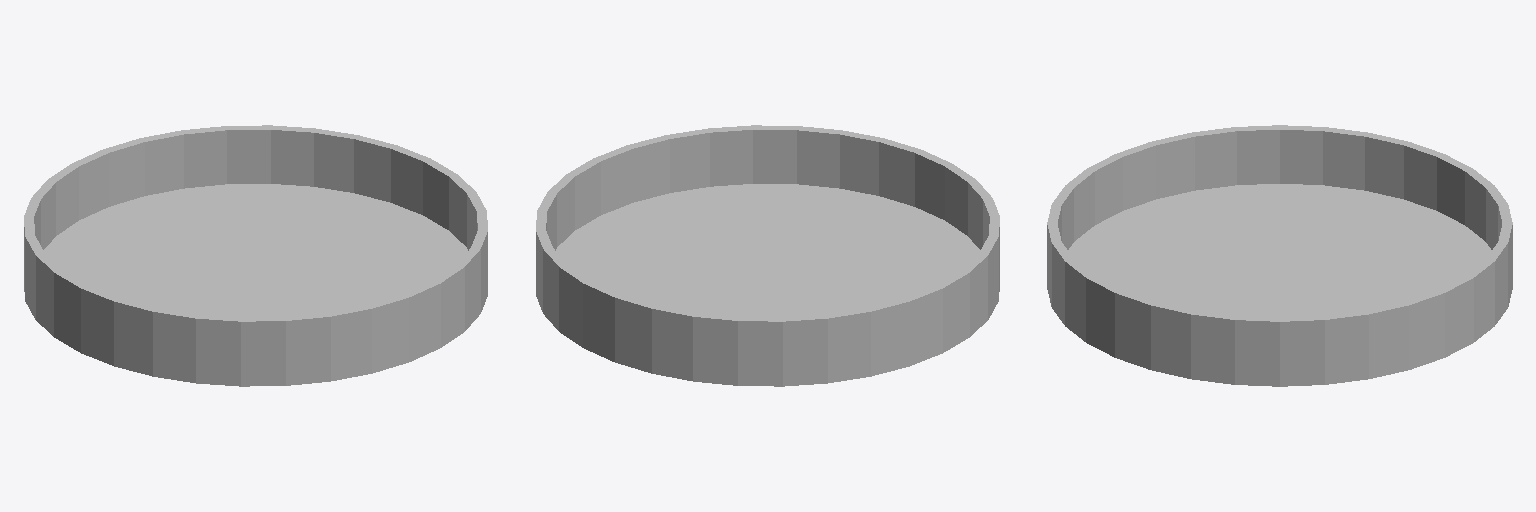
File: Arena5.obj
3 renders of one model, left to right at view 1: azimuth 30°, elevation 25°; view 2: azimuth 150°, elevation 25°; view 3: azimuth 270°, elevation 25°, orthographic.
Visible parts, largest first — view 1: Cylinder; view 2: Cylinder; view 3: Cylinder.
Boxes of the visible parts, x1=… form: Cylinder: x1=24, y1=125, x2=487, y2=386; Cylinder: x1=536, y1=125, x2=999, y2=386; Cylinder: x1=1047, y1=125, x2=1512, y2=386.
Size of the model in its own units: 9.95 by 1.53 by 9.95.